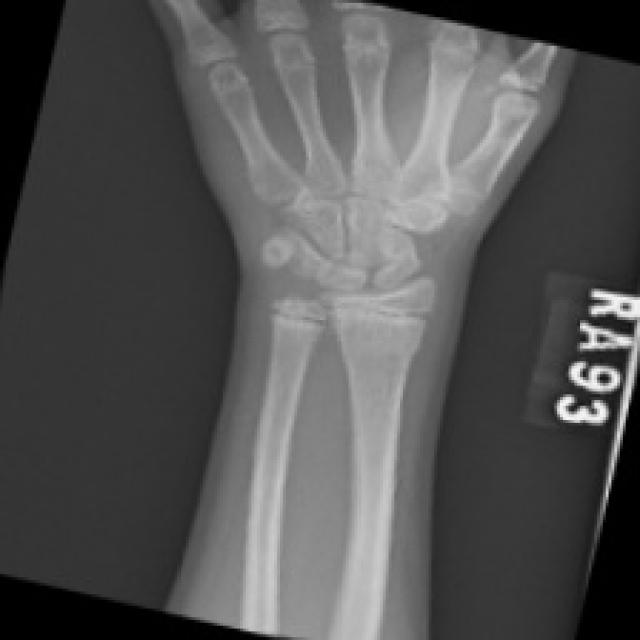fracture: (238, 197, 368, 286)
